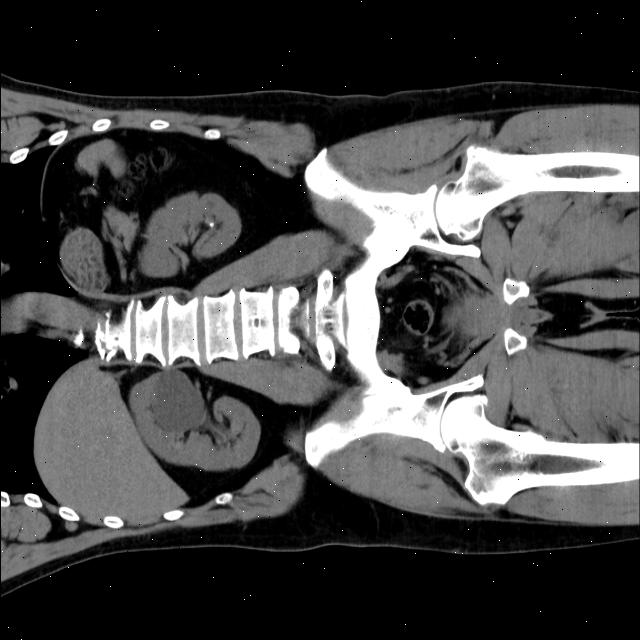kidneystone: (209, 220, 215, 227)
